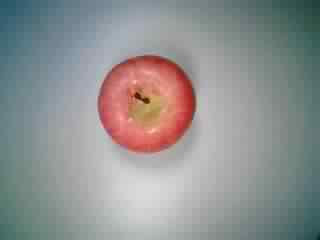apple: (94, 51, 199, 153)
